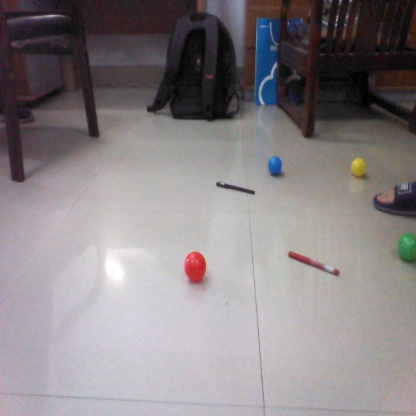ball: (185, 250, 209, 281), (397, 233, 416, 261), (349, 157, 370, 179), (266, 157, 288, 176)
pen: (288, 251, 341, 277), (215, 181, 260, 196)
